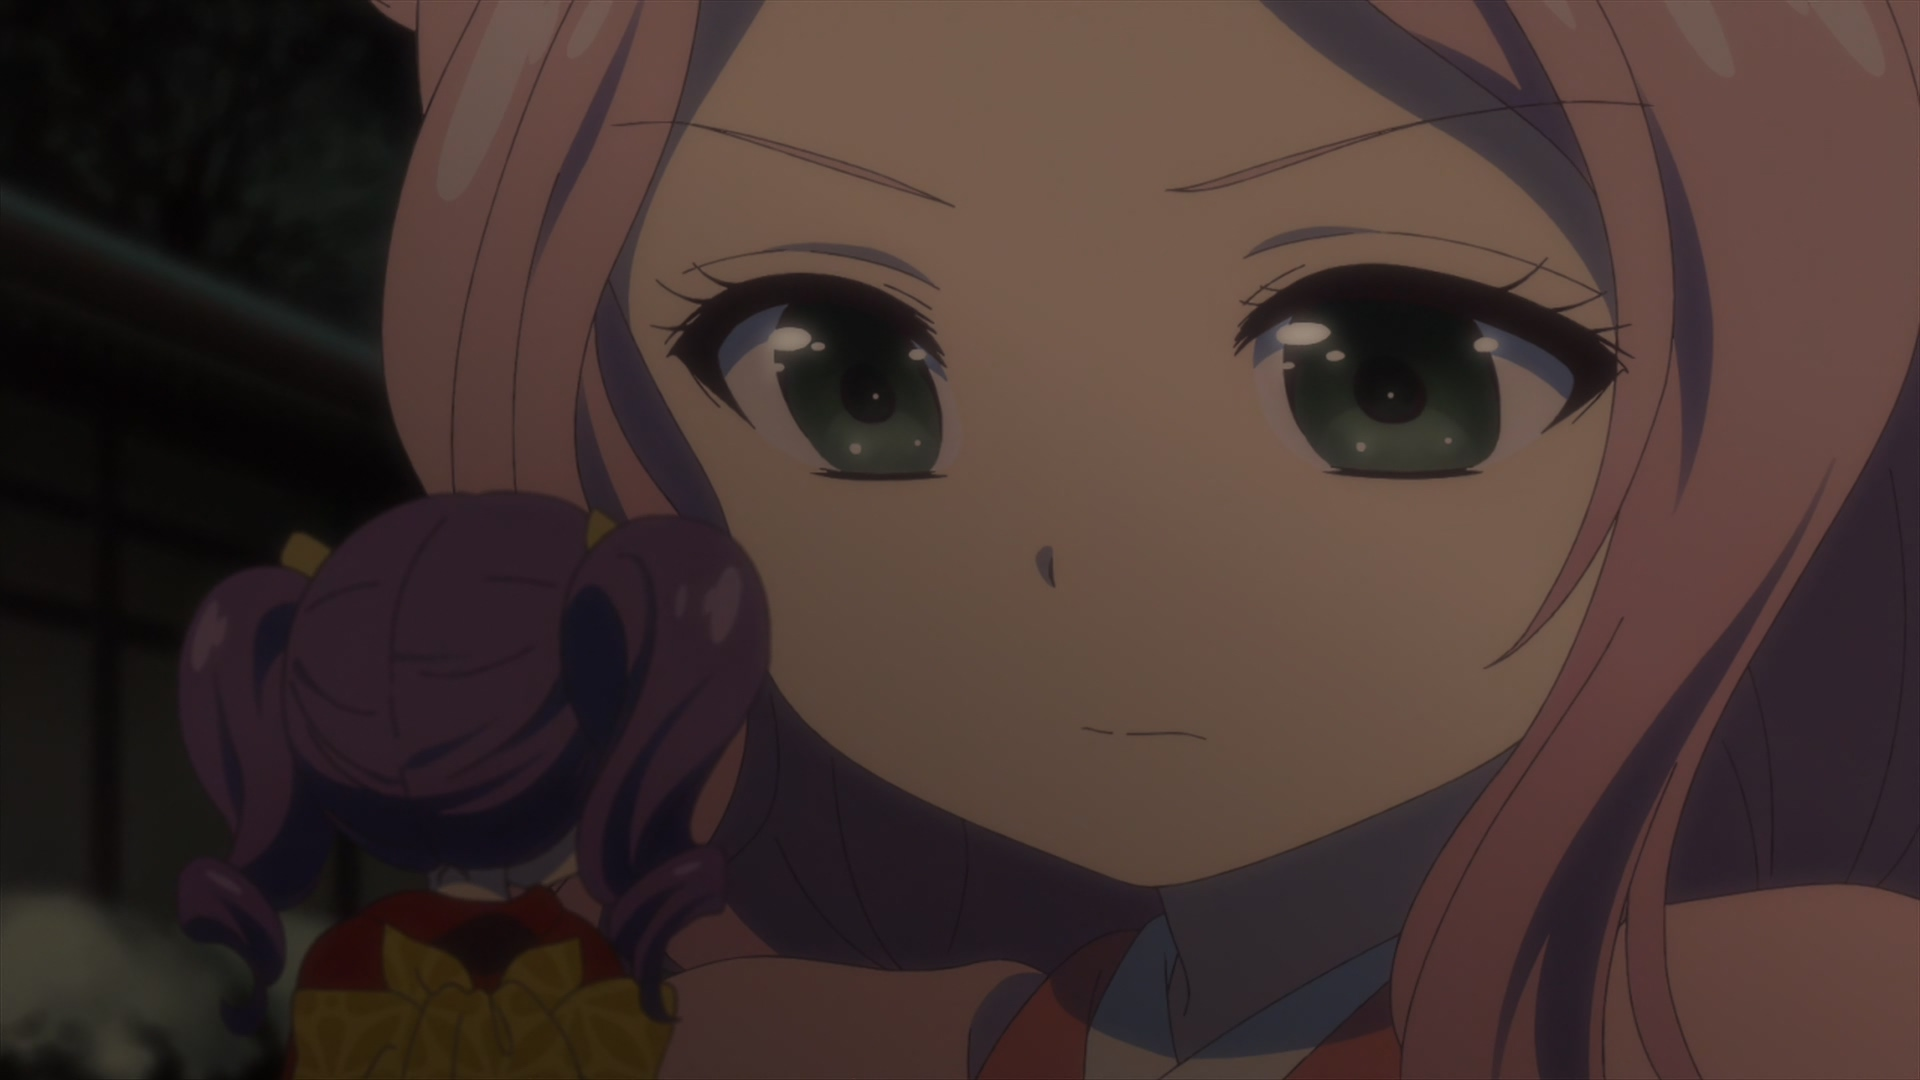莲: (382, 1, 1920, 1080)
阿菊: (181, 491, 773, 1080)
